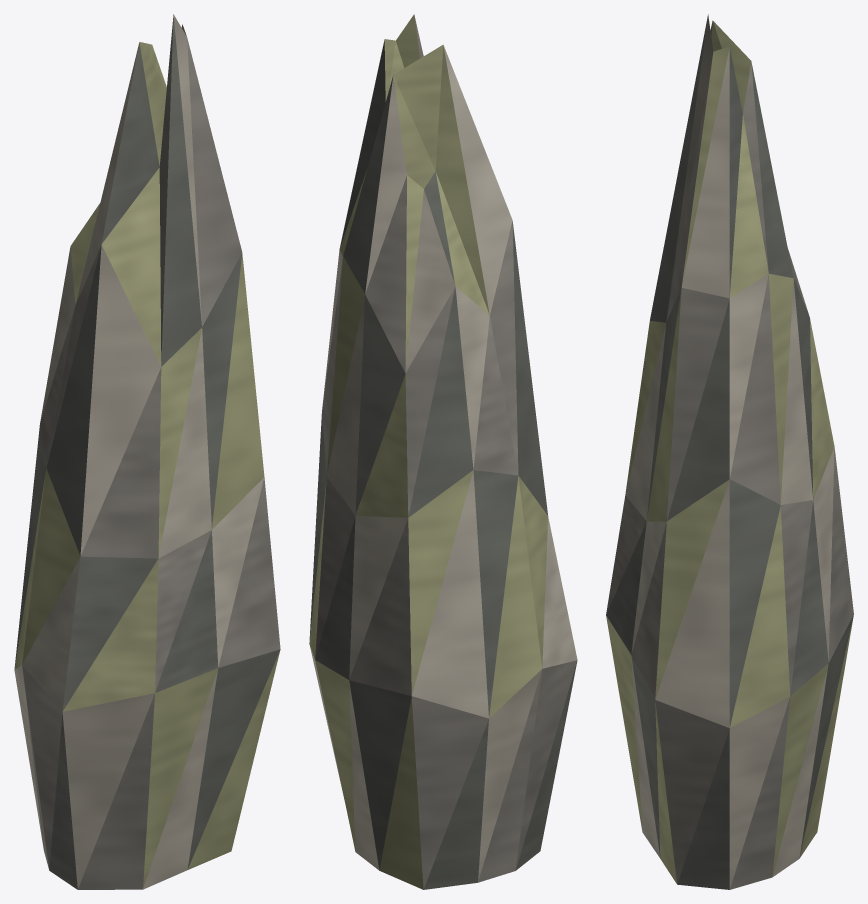
File: stone_menhir_03.fbx
The picture shows the model from 3 angles, left to right: view 1: azimuth 30°, elevation 25°; view 2: azimuth 150°, elevation 25°; view 3: azimuth 270°, elevation 25°; orthographic projection. The views are drawn at different scales.
Parts seen in each view (by area): view 1: stone_menhir_03; view 2: stone_menhir_03; view 3: stone_menhir_03.
Part boxes in pixels (left/top/right/bottom): stone_menhir_03: left=14, top=14, right=280, bottom=889; stone_menhir_03: left=309, top=14, right=577, bottom=889; stone_menhir_03: left=606, top=14, right=853, bottom=889.
Size of the model in its own units: 112 by 378 by 100.
1 material, 1 textured.
